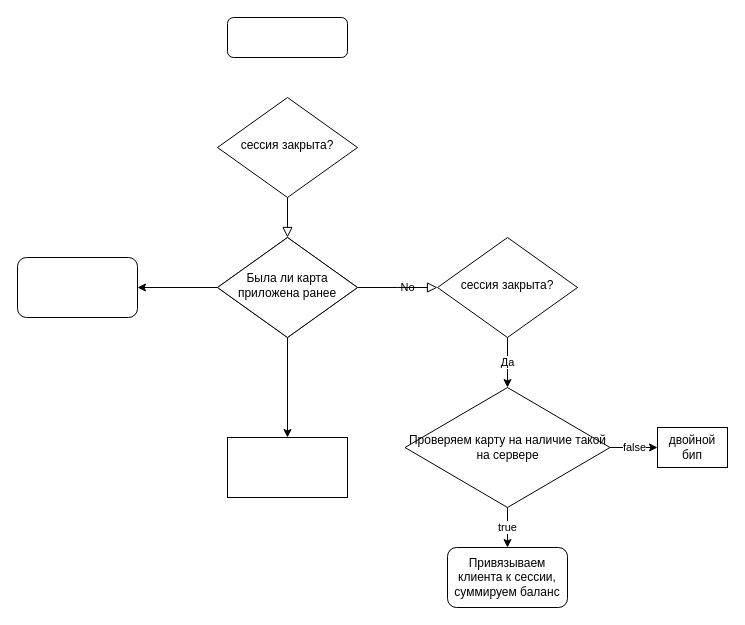
Some shapes in this 745 by 625 pixel diagram are drawn without their labels. Here are the shapes that lost their labels. From the top down, the centre of each, then its label:
the point at 287,37: приложили карту клиента
the point at 77,287: закрываем сессию, обнуляем баланс на терминале
the point at 287,467: закрываем сессию, обнуляем баланс
